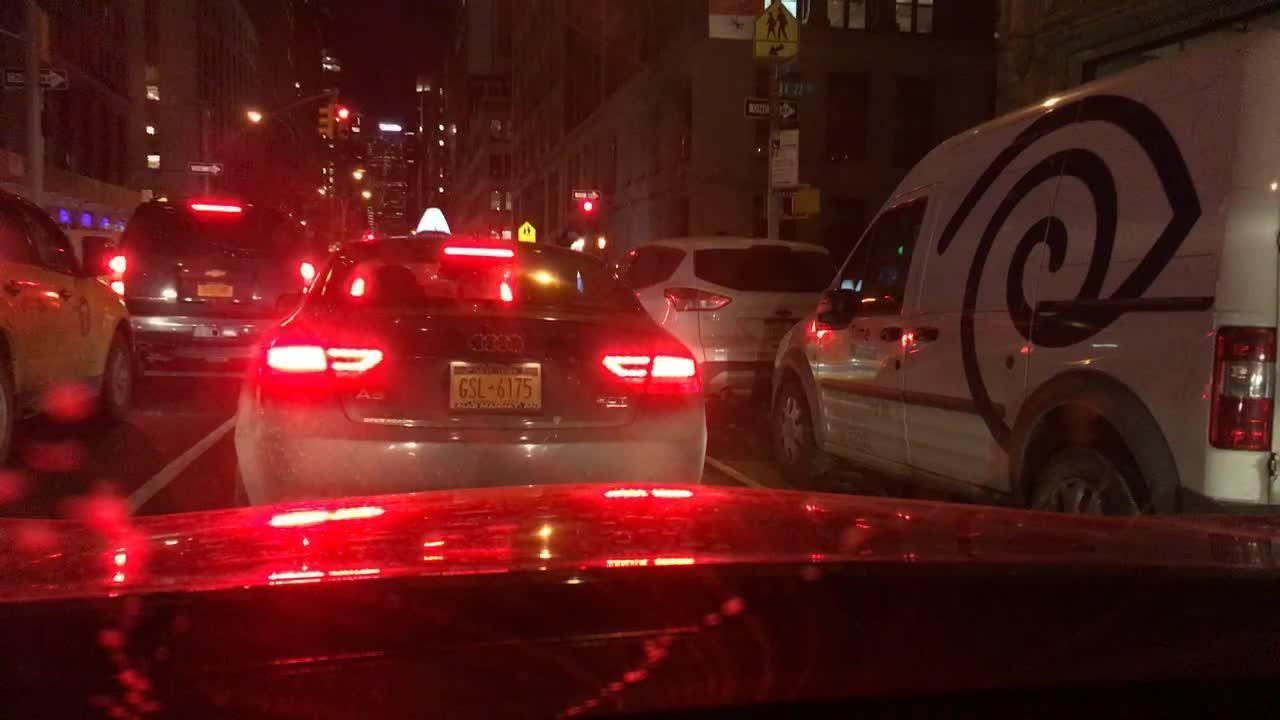Audi: (457, 318, 569, 360)
chevrolet: (204, 267, 233, 281)
